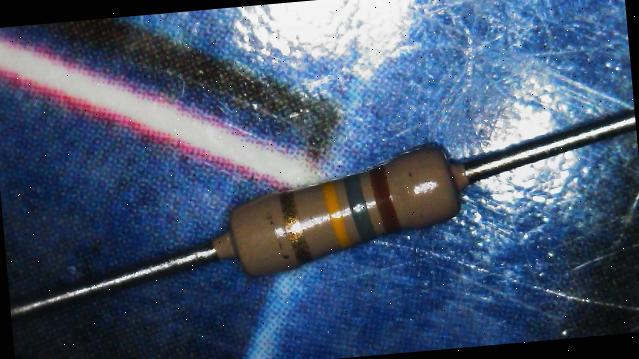brown: (370, 164, 395, 233)
gold: (278, 188, 310, 265)
grey: (346, 175, 370, 241)
resistor: (188, 115, 498, 305)
yellow: (324, 180, 348, 248)
